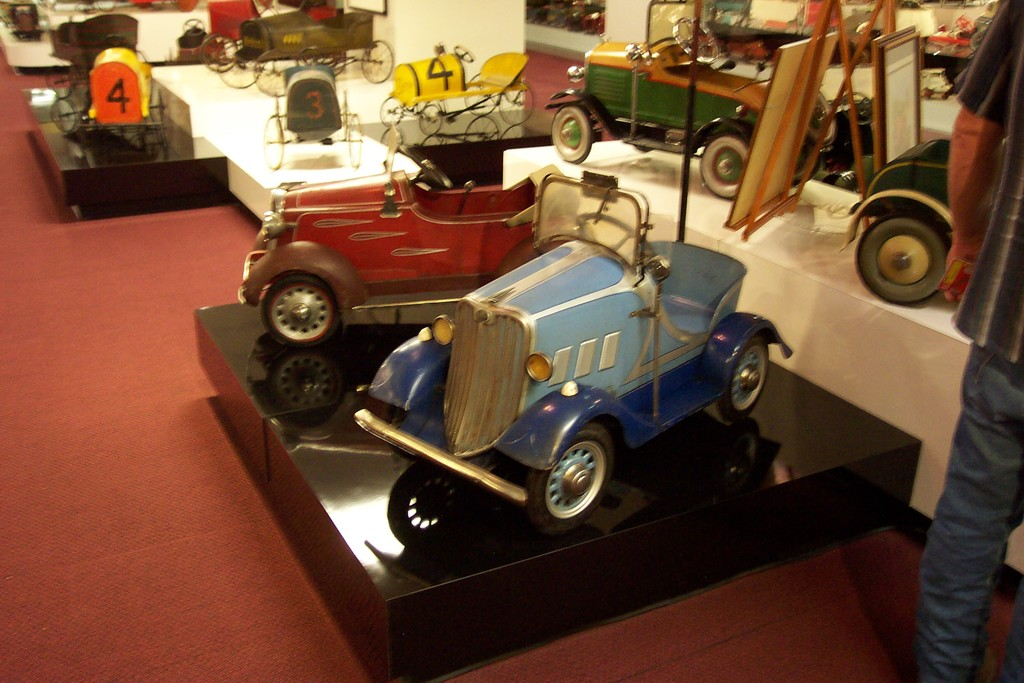Car: (5, 0, 954, 532)
